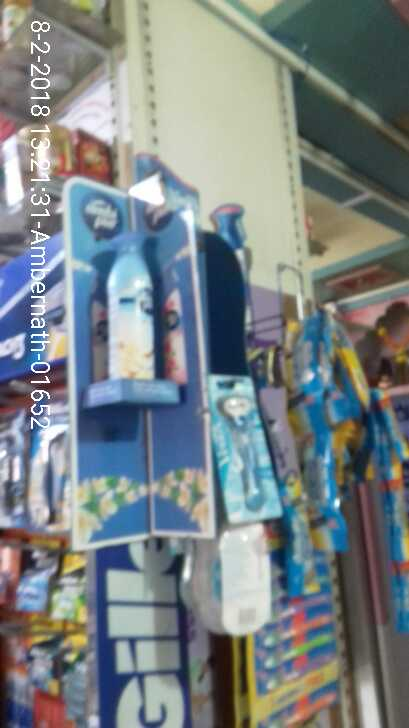beauty: (203, 376, 282, 518)
home: (105, 238, 158, 380)
